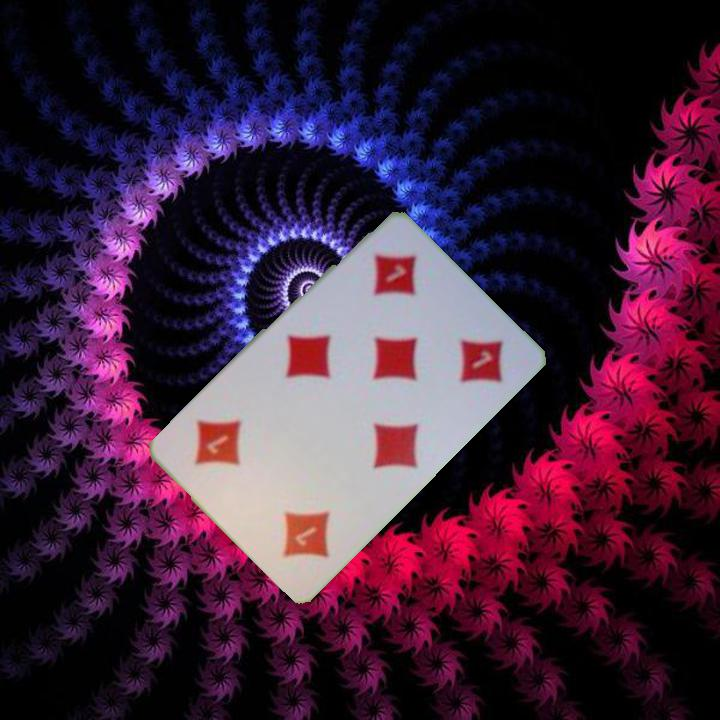d_7.png: (332, 223, 461, 352), (232, 457, 361, 586)
